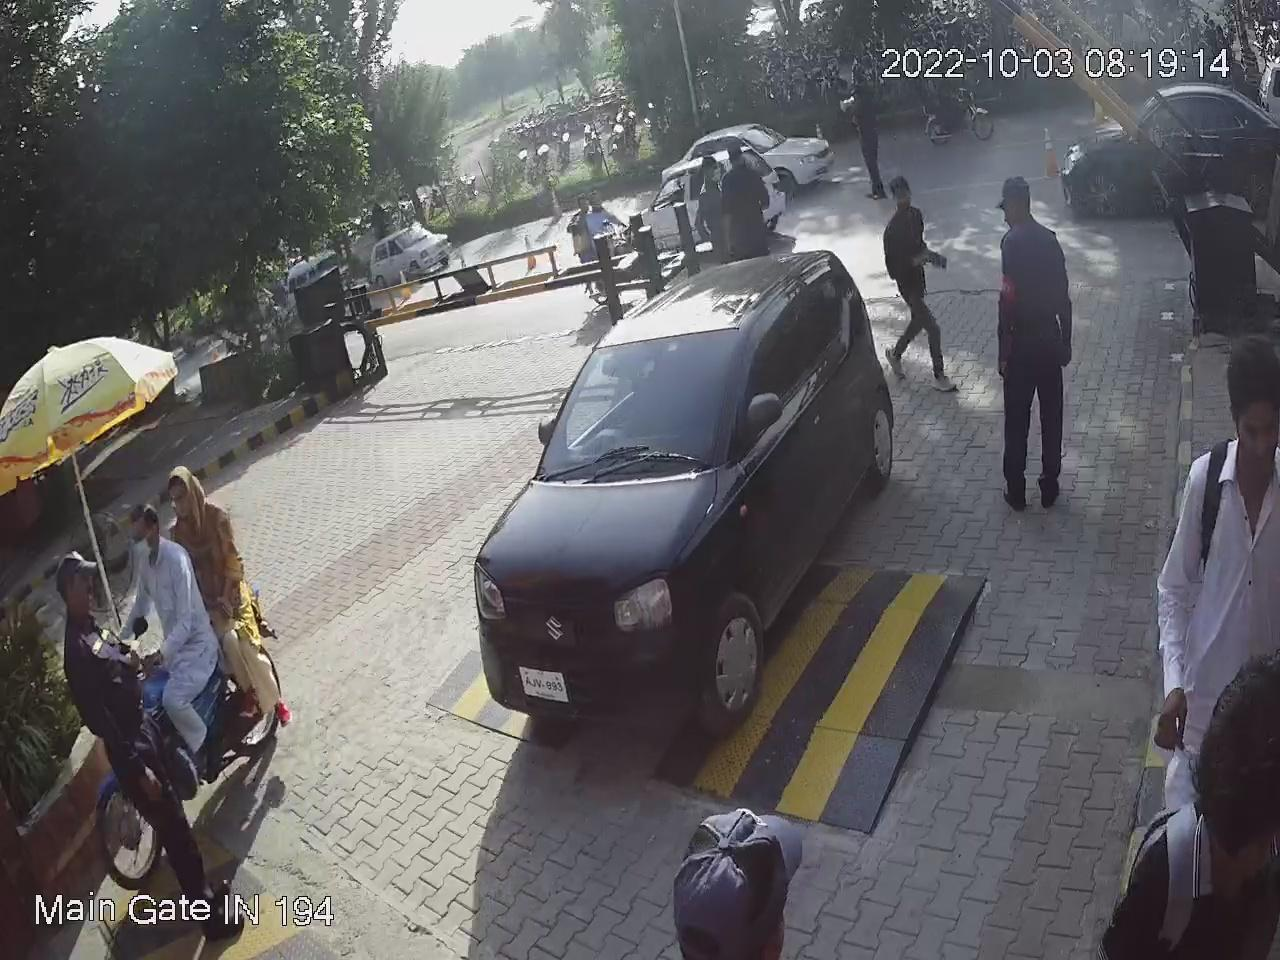windshield: (523, 315, 758, 490)
